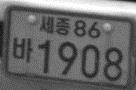0: (79, 42, 100, 78)
1: (36, 37, 51, 74)
6: (87, 20, 101, 39)
8: (102, 46, 123, 82), (73, 18, 87, 37)
9: (57, 40, 77, 75)
바: (11, 34, 33, 64)
세종_H: (38, 14, 71, 36)
